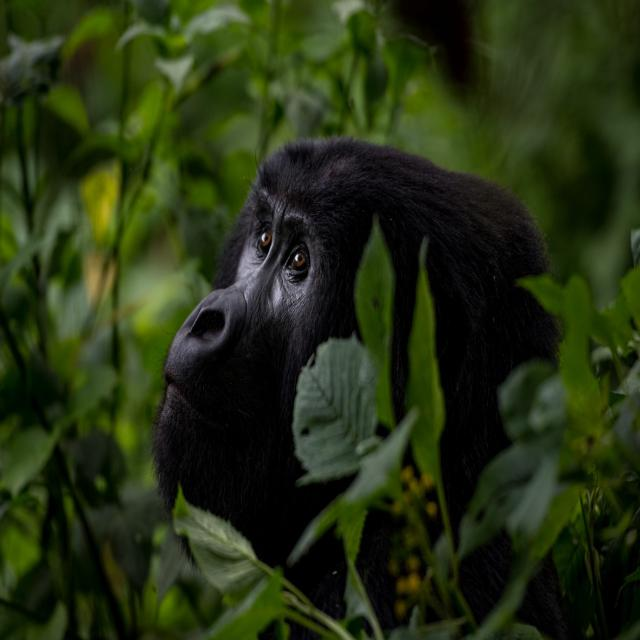Gorilla: (135, 119, 551, 606)
